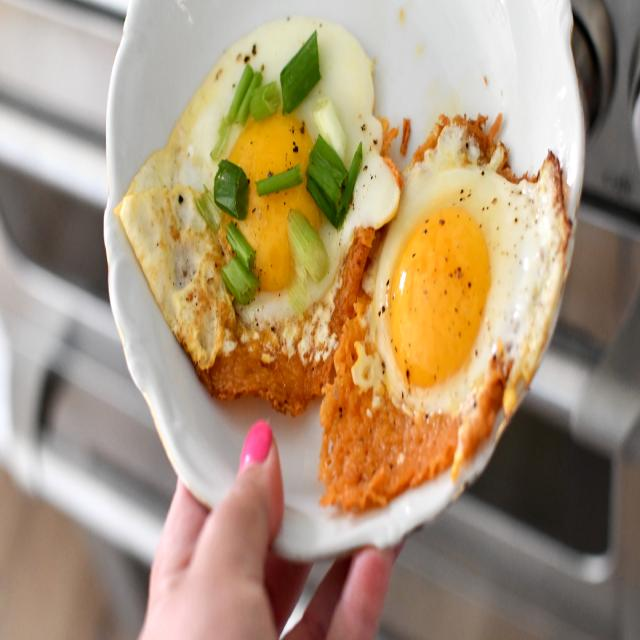Egg: (116, 19, 400, 413), (319, 117, 571, 510)
